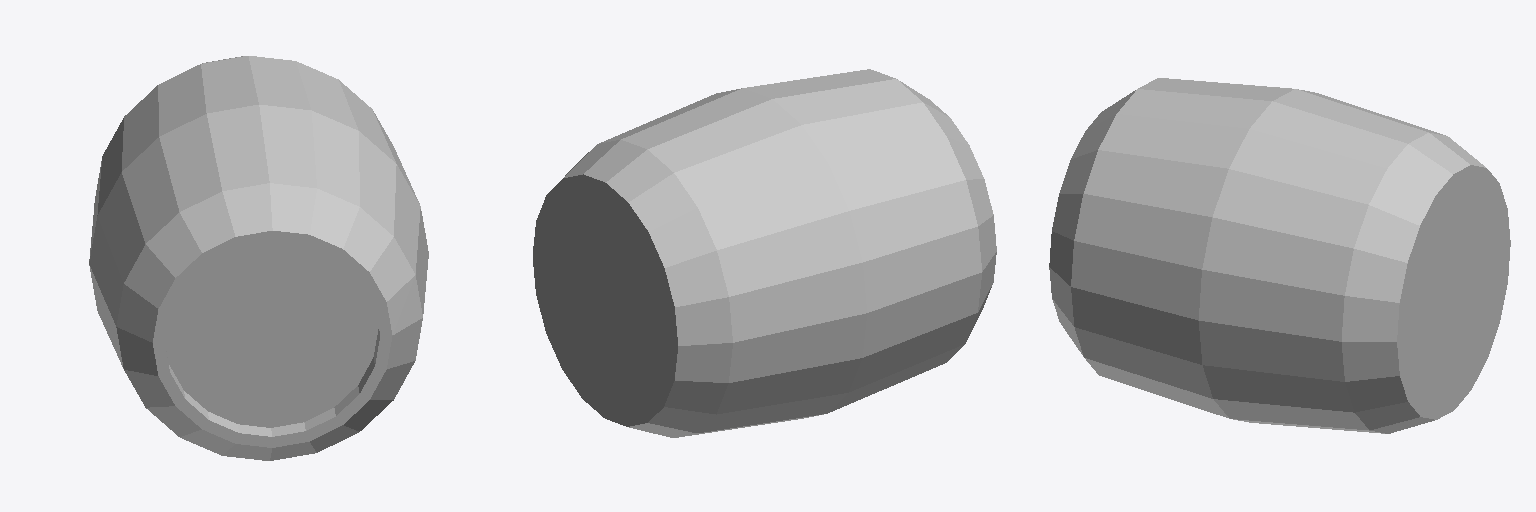
The model's file is barrel(s).obj.
3 renders of one model, left to right at view 1: azimuth 30°, elevation 25°; view 2: azimuth 150°, elevation 25°; view 3: azimuth 270°, elevation 25°, orthographic.
Visible parts, largest first — view 1: barrel01 barrels; view 2: barrel01 barrels; view 3: barrel01 barrels.
Part boxes in pixels (x1,y1,x2,y2): barrel01 barrels: (89,56,428,460); barrel01 barrels: (533,69,996,437); barrel01 barrels: (1049,78,1510,433).
Size of the model in its own units: 91.12 by 75.96 by 103.